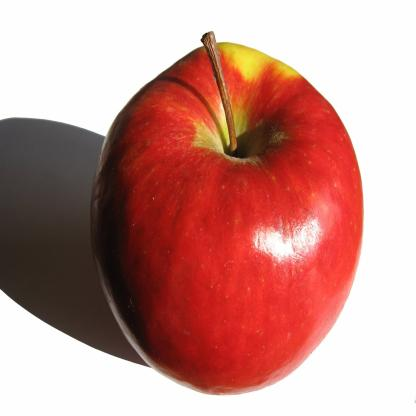apple: (88, 40, 375, 396)
